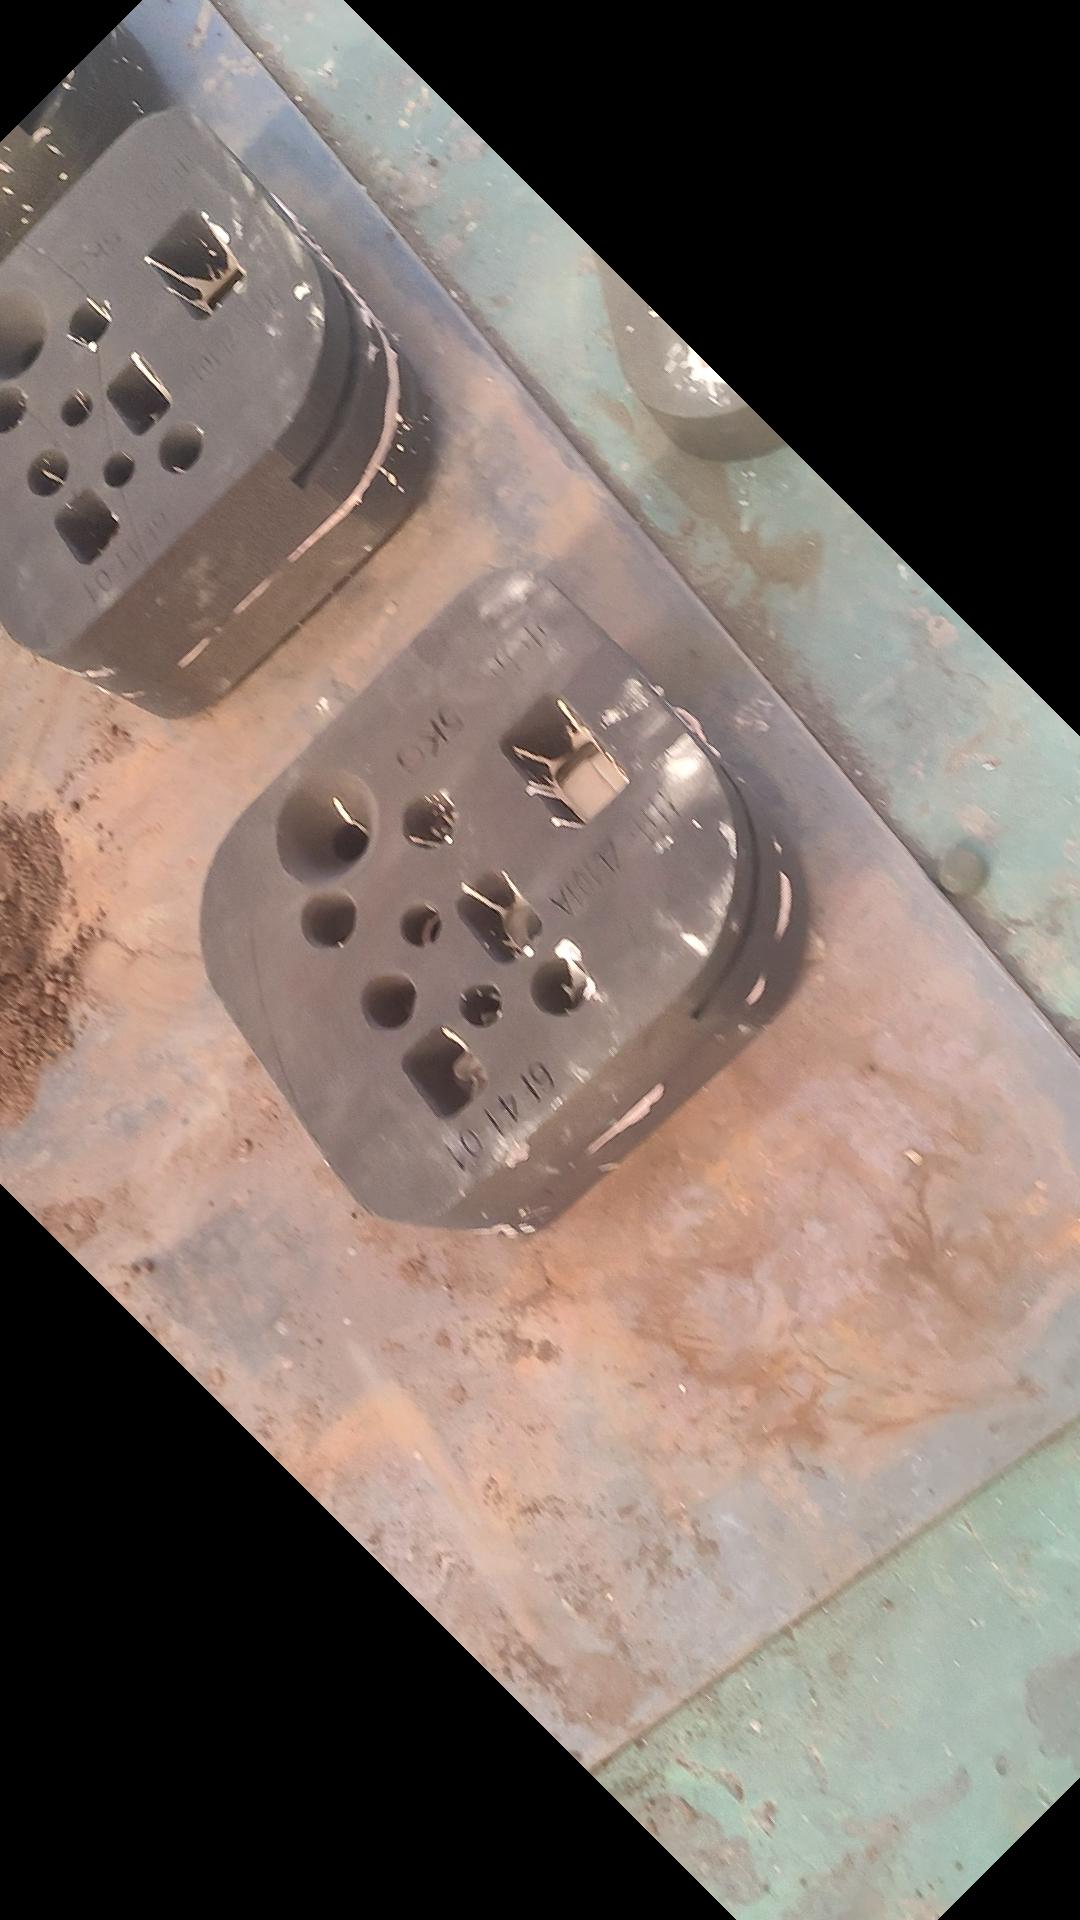pouring hole: (274, 764, 380, 889), (1, 281, 47, 382)
